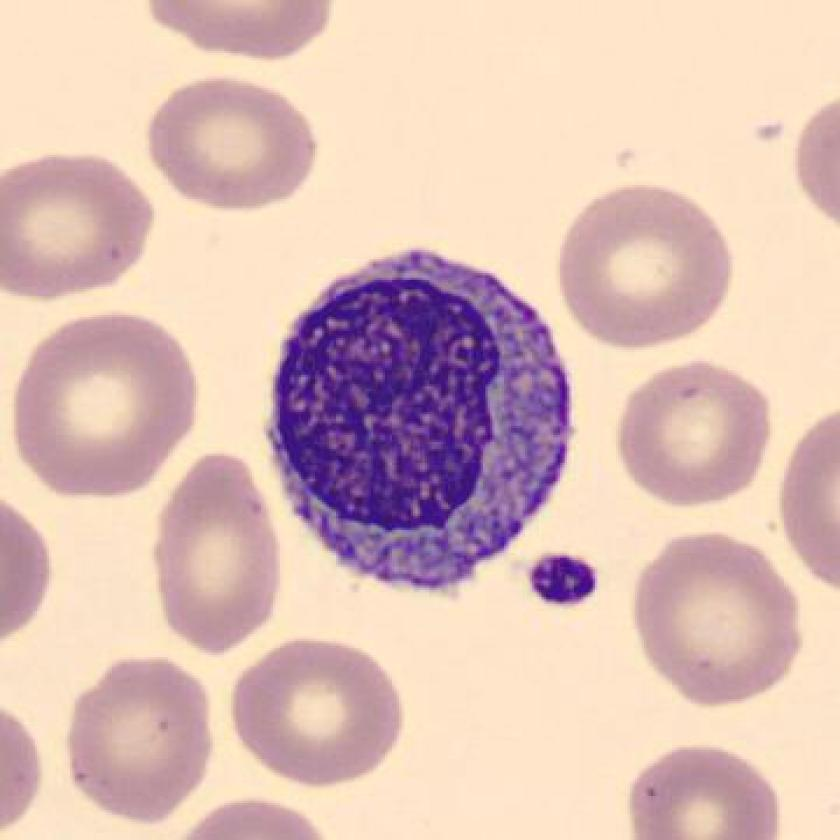monocyte: (256, 230, 592, 607)
